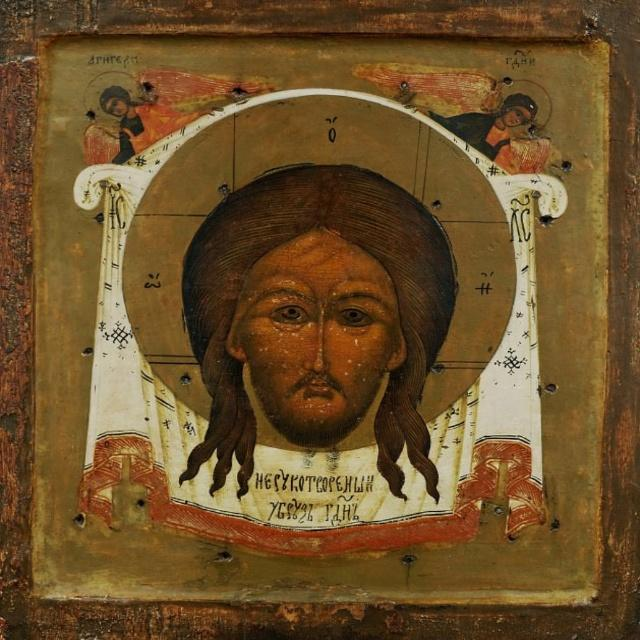angel: (56, 50, 283, 170), (351, 55, 564, 180)
aura: (110, 93, 525, 454), (78, 69, 152, 136), (496, 77, 559, 136)
christ_face: (190, 164, 452, 514)
wing: (338, 62, 498, 103), (139, 65, 276, 109), (75, 122, 124, 168), (509, 136, 554, 178)
